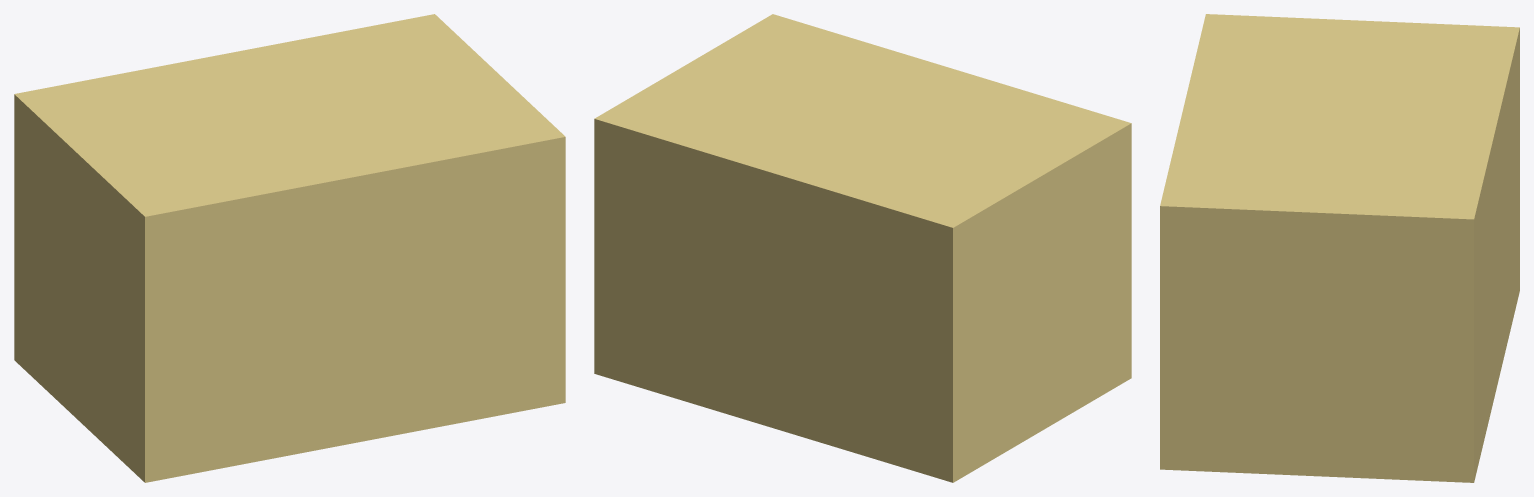
The model's file is HayBale_Single.glb.
3 renders of one model, left to right at view 1: azimuth 30°, elevation 25°; view 2: azimuth 150°, elevation 25°; view 3: azimuth 270°, elevation 25°, orthographic. The views are drawn at different scales.
Visible parts, largest first — view 1: HayBale_Single; view 2: HayBale_Single; view 3: HayBale_Single.
Part boxes in pixels (box(x1,y1,x2,y2)): HayBale_Single: box(14, 14, 565, 482); HayBale_Single: box(594, 14, 1131, 482); HayBale_Single: box(1160, 14, 1519, 482).
Bounding box in the file's own units: 1.17 × 0.7 × 0.8665.
